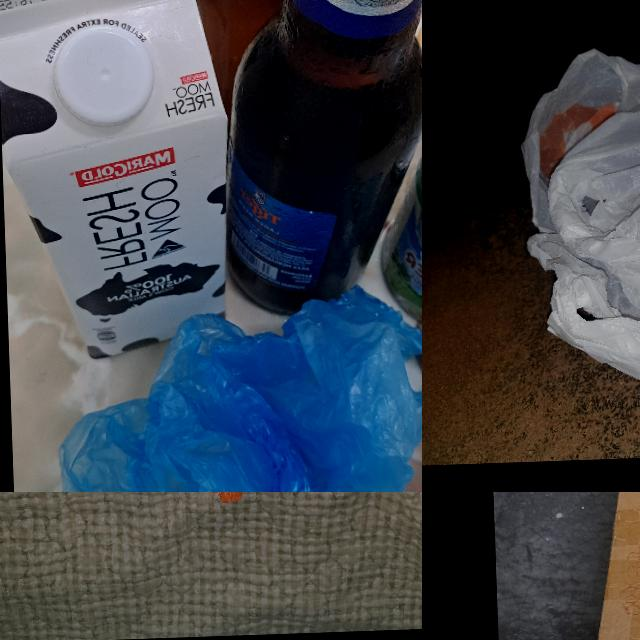caixinha: (0, 0, 237, 367), (397, 15, 422, 136)
garrafa de vidro: (216, 0, 422, 315), (173, 0, 309, 122)
lata: (372, 100, 422, 330)
papelão: (580, 492, 640, 640)
sacola plástica: (35, 281, 422, 492), (508, 24, 640, 406)
